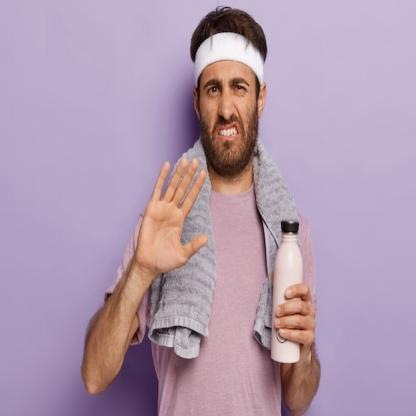stop: (135, 156, 208, 274)
